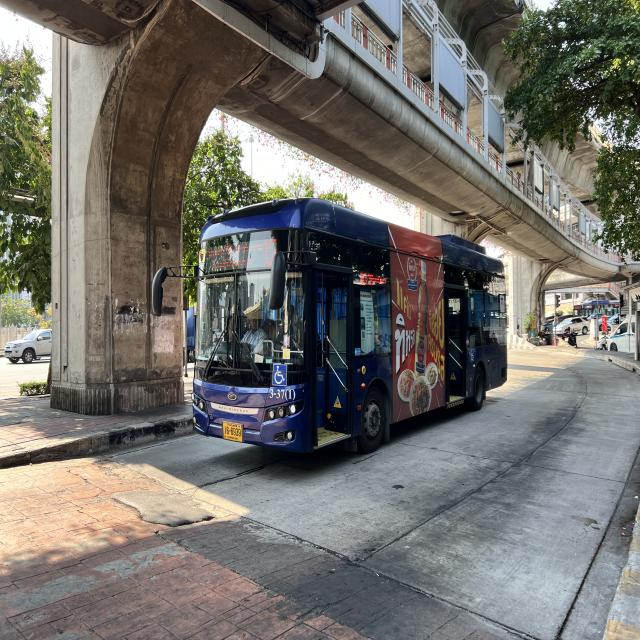Bus-Line-Number: (262, 234, 281, 268)
Destination-Sign-Normal: (204, 240, 262, 272)
TSB-Bus: (190, 199, 510, 458)
